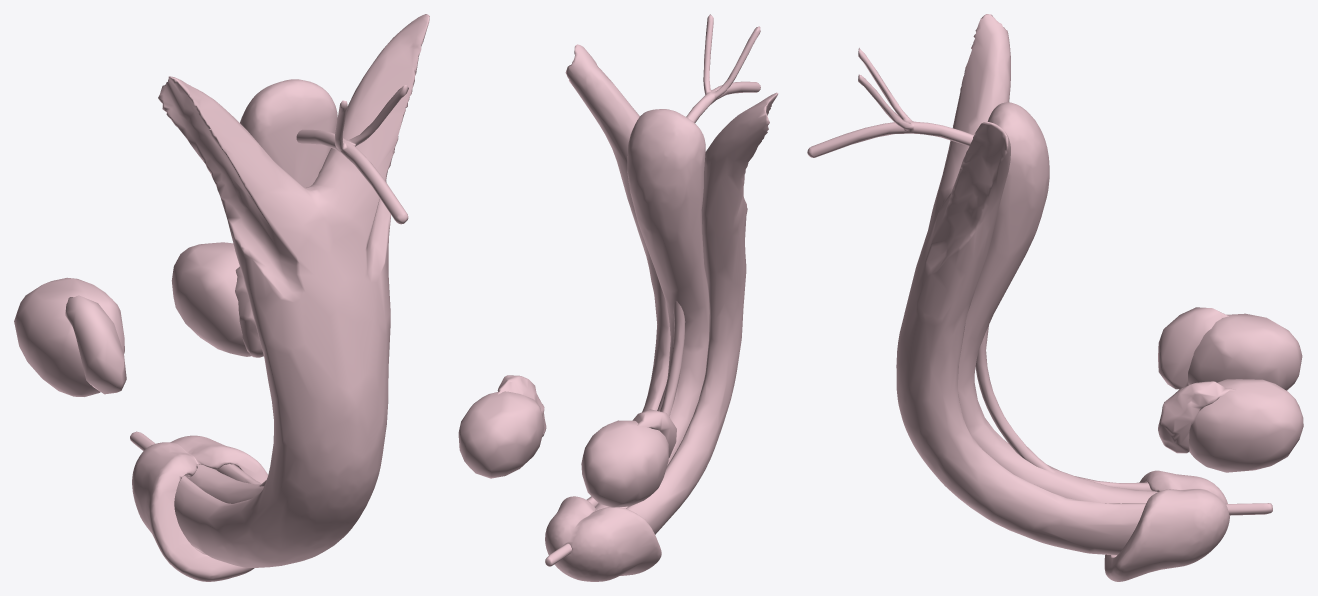
The model's file is bassin-organes.glb.
The picture shows the model from 3 angles, left to right: view 1: azimuth 30°, elevation 25°; view 2: azimuth 150°, elevation 25°; view 3: azimuth 270°, elevation 25°; orthographic projection. The views are drawn at different scales.
Parts seen in each view (by area): view 1: corps_caverneux, gland, corps_spongieux, testicule_droit, testicule_gauche, epididyme_droit, uretre, epididyme_gauche; view 2: corps_caverneux, corps_spongieux, gland, testicule_droit, testicule_gauche, uretre, epididyme_droit, epididyme_gauche; view 3: corps_caverneux, corps_spongieux, gland, testicule_gauche, testicule_droit, uretre, epididyme_droit, epididyme_gauche.
Boxes of the visible parts, box(x1,y1,x2,y2) form: corps_caverneux: box(158, 14, 429, 567); gland: box(132, 435, 268, 581); corps_spongieux: box(185, 79, 337, 503); testicule_droit: box(14, 277, 124, 396); testicule_gauche: box(171, 242, 251, 356); epididyme_droit: box(65, 295, 126, 394); uretre: box(130, 85, 408, 486); epididyme_gauche: box(235, 266, 263, 357); corps_caverneux: box(565, 44, 778, 534); corps_spongieux: box(595, 109, 709, 510); gland: box(545, 496, 661, 581); testicule_droit: box(581, 420, 669, 507); testicule_gauche: box(458, 391, 544, 478); uretre: box(545, 14, 760, 566); epididyme_droit: box(632, 409, 676, 457); epididyme_gauche: box(497, 375, 546, 436); corps_caverneux: box(896, 14, 1151, 555); corps_spongieux: box(958, 102, 1157, 503); gland: box(1104, 470, 1229, 581); testicule_gauche: box(1189, 379, 1303, 472); testicule_droit: box(1188, 313, 1302, 390); uretre: box(807, 48, 1272, 515); epididyme_droit: box(1158, 307, 1228, 389); epididyme_gauche: box(1158, 381, 1235, 453).
Size of the model in its own units: 63.59 by 138 by 121.
